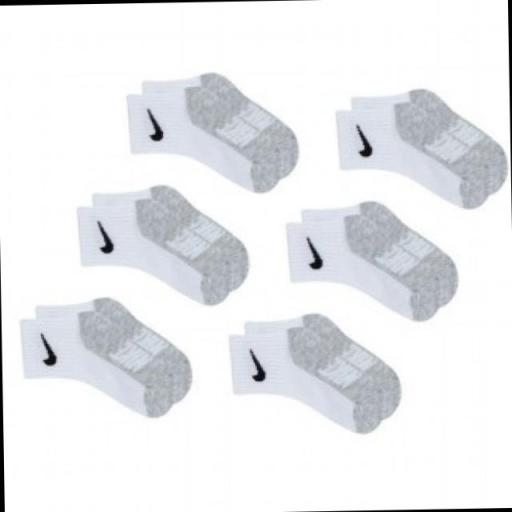Nike: (304, 236, 322, 271)
